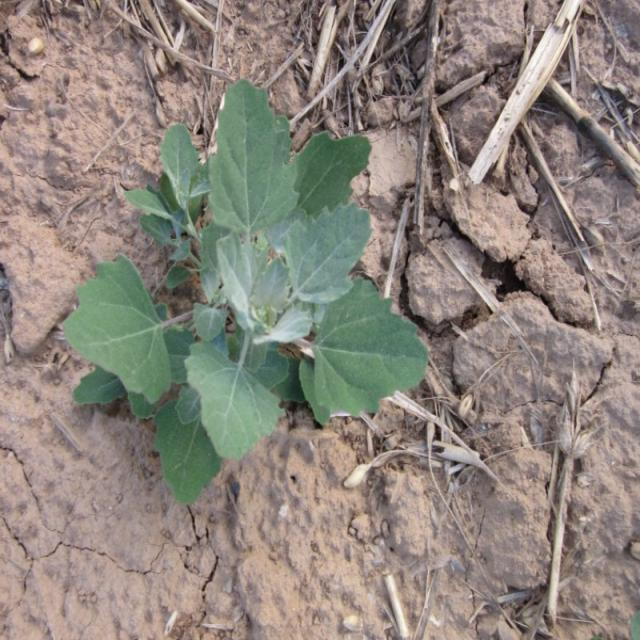ca: (60, 80, 433, 504)
